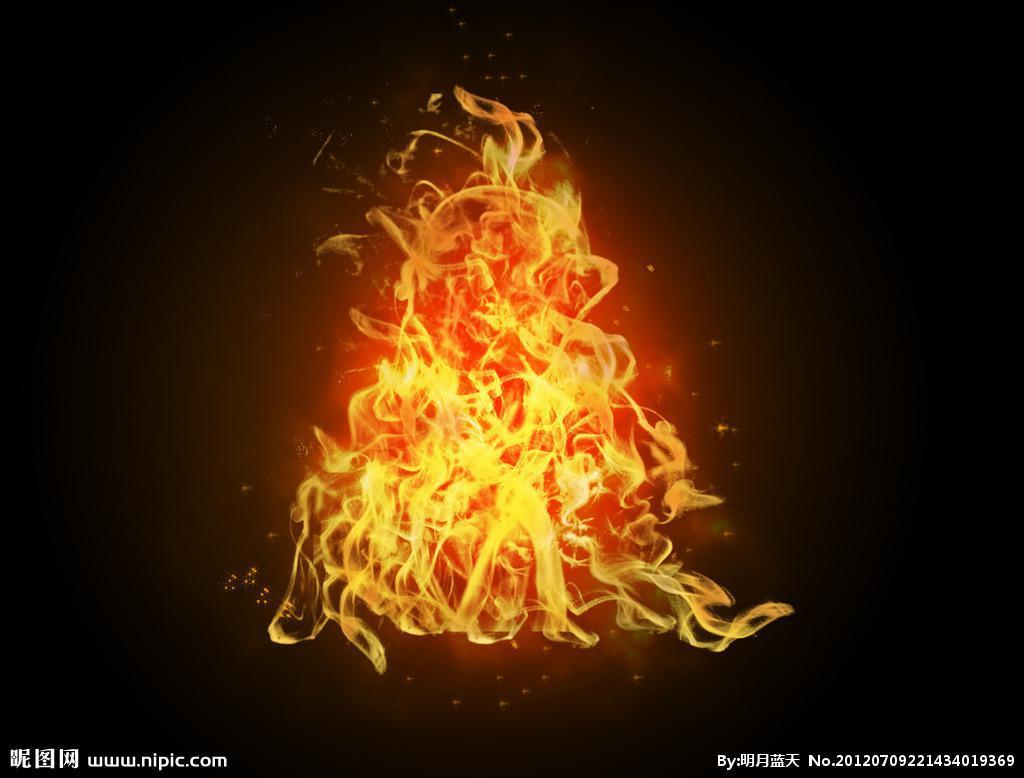fire: (274, 84, 784, 671)
